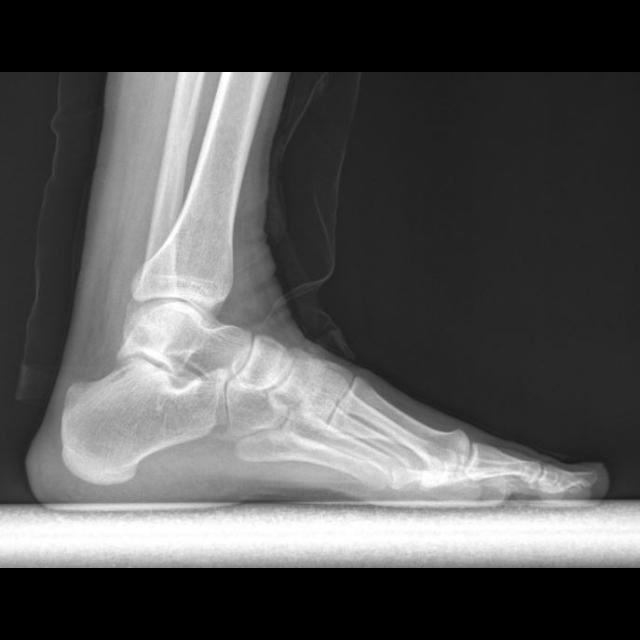a: (61, 354, 229, 490)
b: (230, 334, 294, 390)
c: (337, 376, 470, 474)
